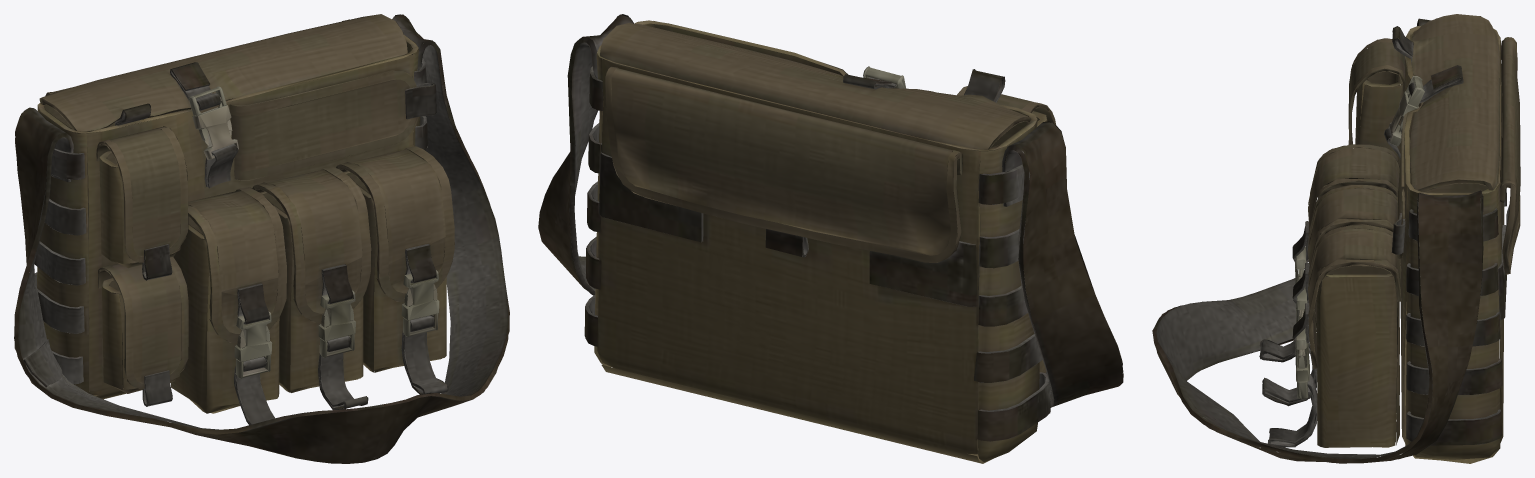
The model's file is bag_messenger_lite.glb.
The picture shows the model from 3 angles, left to right: view 1: azimuth 30°, elevation 25°; view 2: azimuth 150°, elevation 25°; view 3: azimuth 270°, elevation 25°; orthographic projection. The views are drawn at different scales.
Visible parts, largest first — view 1: cover_001_mesh.006, strap_001_mesh.009, pocket_001_mesh.005, main_mesh.008, buckle_001_mesh.009; view 2: main_mesh.008, cover_001_mesh.006, strap_001_mesh.009; view 3: strap_001_mesh.009, cover_001_mesh.006, pocket_001_mesh.005, main_mesh.008, buckle_001_mesh.009.
Boxes of the visible parts, x1,y1,x2,y2 form: cover_001_mesh.006: (39, 14, 454, 388); strap_001_mesh.009: (14, 14, 509, 463); pocket_001_mesh.005: (99, 151, 446, 413); main_mesh.008: (37, 35, 420, 399); buckle_001_mesh.009: (188, 86, 439, 378); main_mesh.008: (594, 20, 1039, 463); cover_001_mesh.006: (600, 23, 1055, 262); strap_001_mesh.009: (538, 14, 1123, 441); strap_001_mesh.009: (1152, 16, 1509, 463); cover_001_mesh.006: (1308, 14, 1520, 369); pocket_001_mesh.005: (1317, 71, 1403, 447); main_mesh.008: (1400, 26, 1504, 463); buckle_001_mesh.009: (1295, 75, 1424, 399).
Size of the model in its own units: 0.7217 by 0.4346 by 0.4724.
5 materials, 5 textured.
